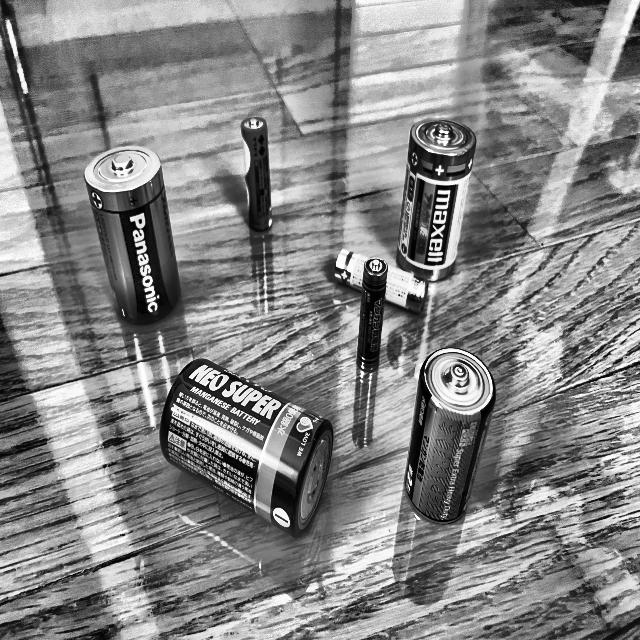drycell: (155, 354, 337, 536), (79, 142, 183, 331), (399, 346, 499, 527), (393, 113, 477, 285), (332, 246, 428, 316), (239, 109, 280, 235), (352, 254, 389, 375)
